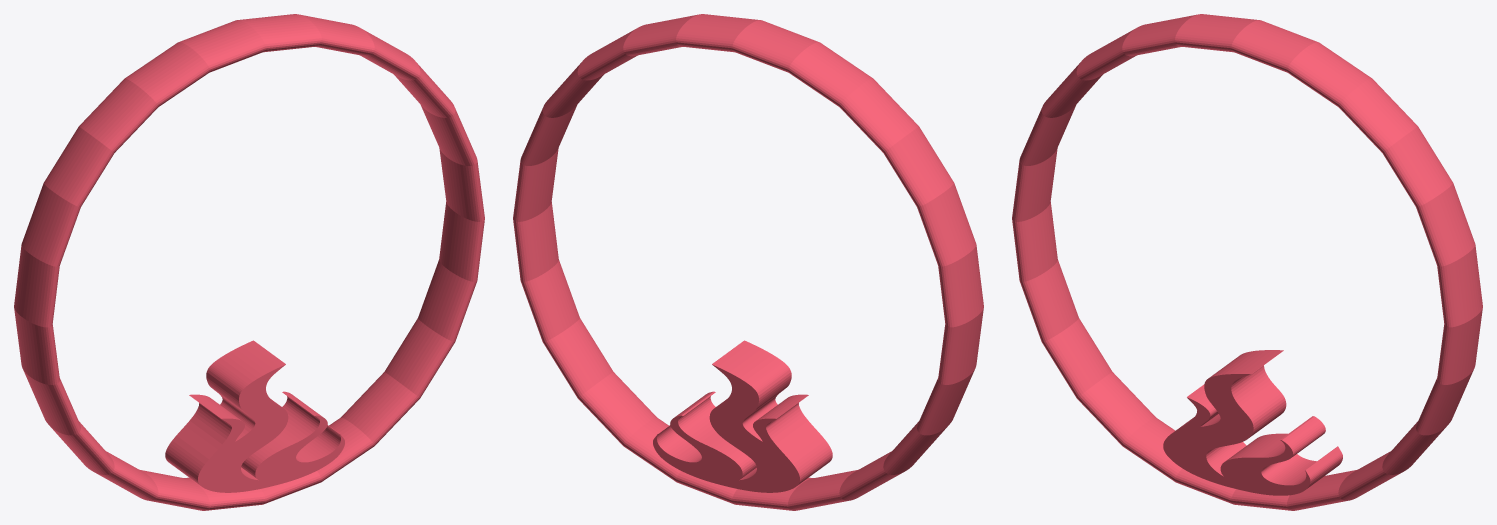
Rendered from icon_warn0.fbx.
The picture shows the model from 3 angles, left to right: view 1: azimuth 30°, elevation 25°; view 2: azimuth 150°, elevation 25°; view 3: azimuth 330°, elevation 25°; orthographic projection.
Parts seen in each view (by area): view 1: obj_0.010; view 2: obj_0.010; view 3: obj_0.010.
Boxes of the visible parts, x1,y1,x2,y2 form: obj_0.010: [14, 14, 484, 510]; obj_0.010: [513, 14, 983, 510]; obj_0.010: [1012, 14, 1482, 510].
Bounding box in the file's own units: 4000 × 4000 × 500.
